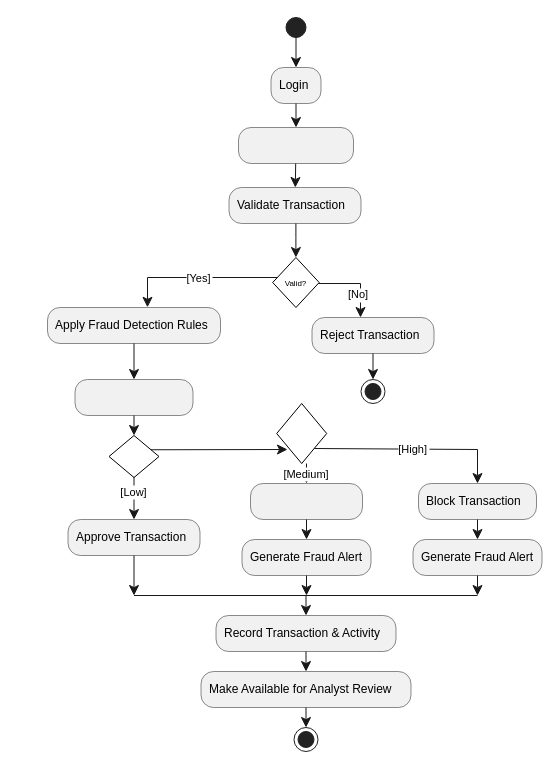
The diagram is 559 pixels wide and 769 high, and some of its shapes have lost their labels. Each missing label, with the centre of its shape:
"Assign Risk Level" belongs at point (133, 397).
"Enter Transaction" belongs at point (295, 145).
"Flag Transaction" belongs at point (306, 501).
"Risk Level" belongs at point (301, 433).
"Risk Level?" belongs at point (133, 456).
